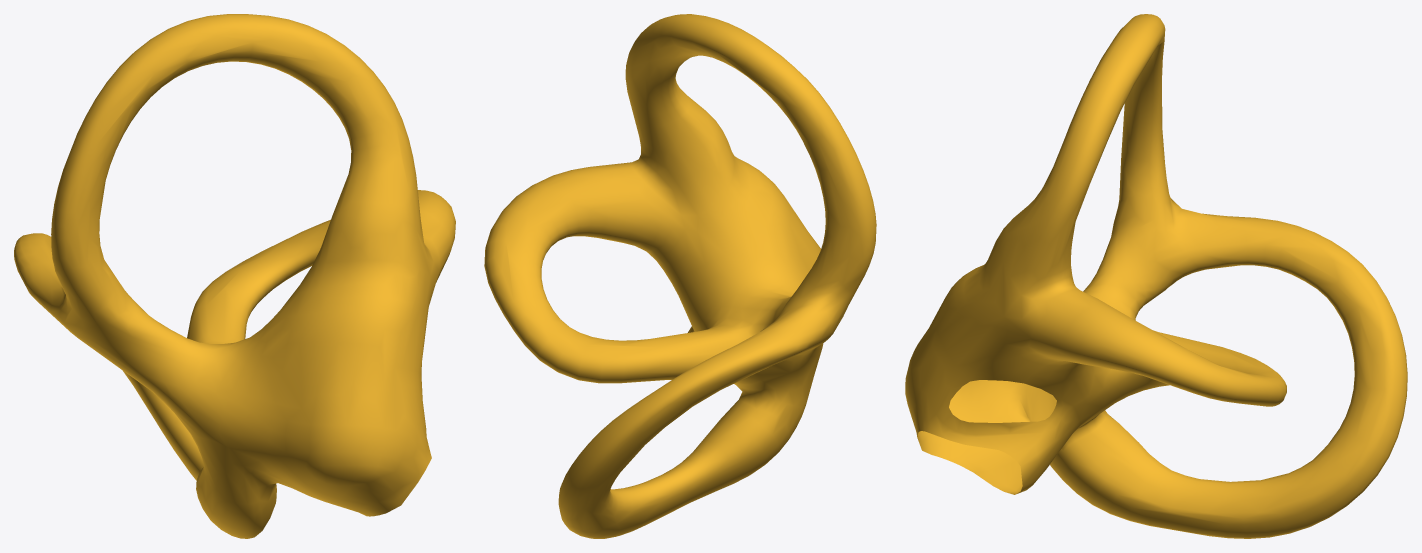
File: nervoso-vestibule-l.glb
3 views of the same model, side by side, from view 1: azimuth 30°, elevation 25°; view 2: azimuth 150°, elevation 25°; view 3: azimuth 270°, elevation 25° (orthographic). The views are drawn at different scales.
Parts seen in each view (by area): view 1: Vestibule.l; view 2: Vestibule.l; view 3: Vestibule.l.
Boxes of the visible parts, x1,y1,x2,y2 form: Vestibule.l: [14, 14, 455, 538]; Vestibule.l: [484, 14, 876, 538]; Vestibule.l: [905, 14, 1407, 538].
Size of the model in its own units: 0.0102 by 0.0129 by 0.012.
